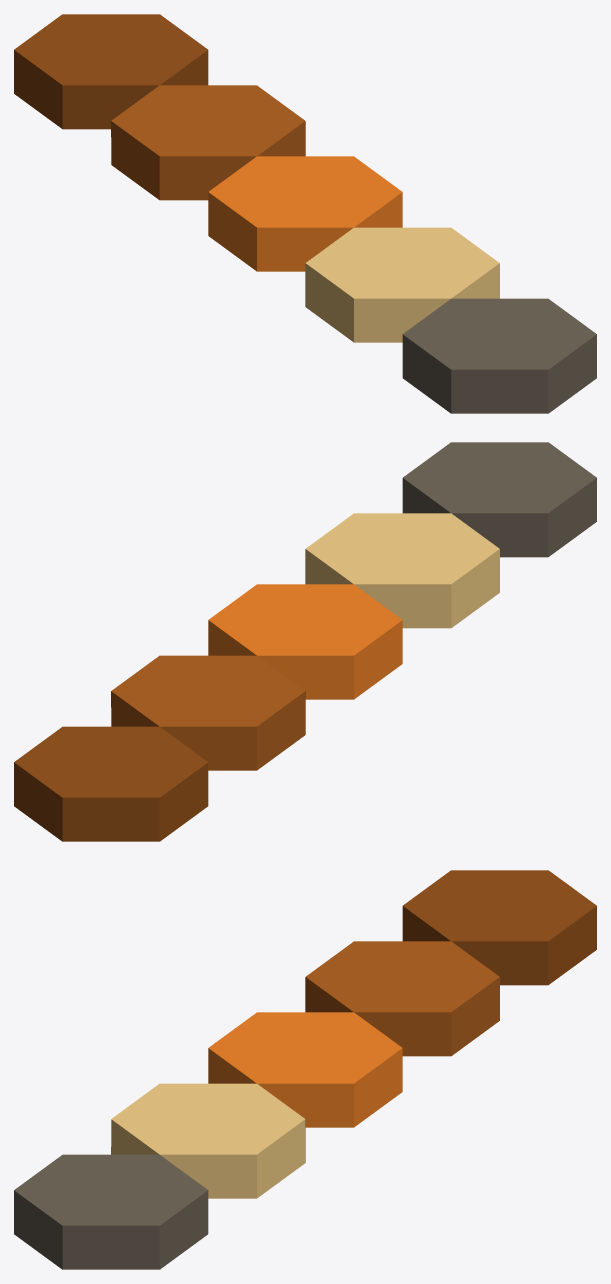
Rendered from 6-scioklocki do mapy.fbx.
The picture shows the model from 3 angles, top to bottom: view 1: azimuth 30°, elevation 25°; view 2: azimuth 150°, elevation 25°; view 3: azimuth 330°, elevation 25°; orthographic projection.
Parts seen in each view (by area): view 1: Cylinder.004, Cylinder.002, Cylinder.001, Cylinder.003, Cylinder; view 2: Cylinder, Cylinder.002, Cylinder.001, Cylinder.003, Cylinder.004; view 3: Cylinder.004, Cylinder.002, Cylinder.001, Cylinder.003, Cylinder.
Boxes of the visible parts, x1,y1,x2,y2 form: Cylinder.004: (402,298,596,413); Cylinder.002: (208,156,402,271); Cylinder.001: (111,85,305,200); Cylinder.003: (305,227,499,342); Cylinder: (14,14,208,129); Cylinder: (14,726,208,841); Cylinder.002: (208,584,402,699); Cylinder.001: (111,655,305,770); Cylinder.003: (305,513,499,628); Cylinder.004: (402,442,596,557); Cylinder.004: (14,1154,208,1269); Cylinder.002: (208,1012,402,1127); Cylinder.001: (305,941,499,1056); Cylinder.003: (111,1083,305,1198); Cylinder: (402,870,596,985).
Size of the model in its own units: 173 by 50 by 1000.
